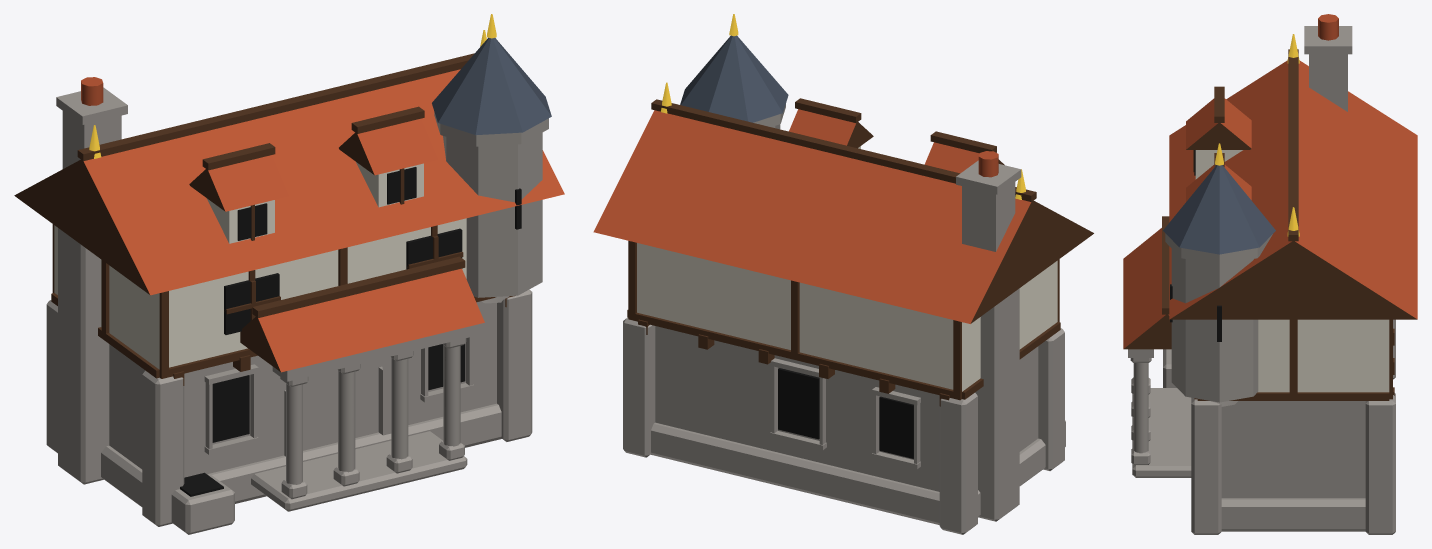
Rendered from AoE4_TownCenter.obj.
3 views of the same model, side by side, from view 1: azimuth 30°, elevation 25°; view 2: azimuth 150°, elevation 25°; view 3: azimuth 270°, elevation 25° (orthographic). The views are drawn at different scales.
Bounding box in the file's own units: 5.12 × 4.82 × 3.38.
